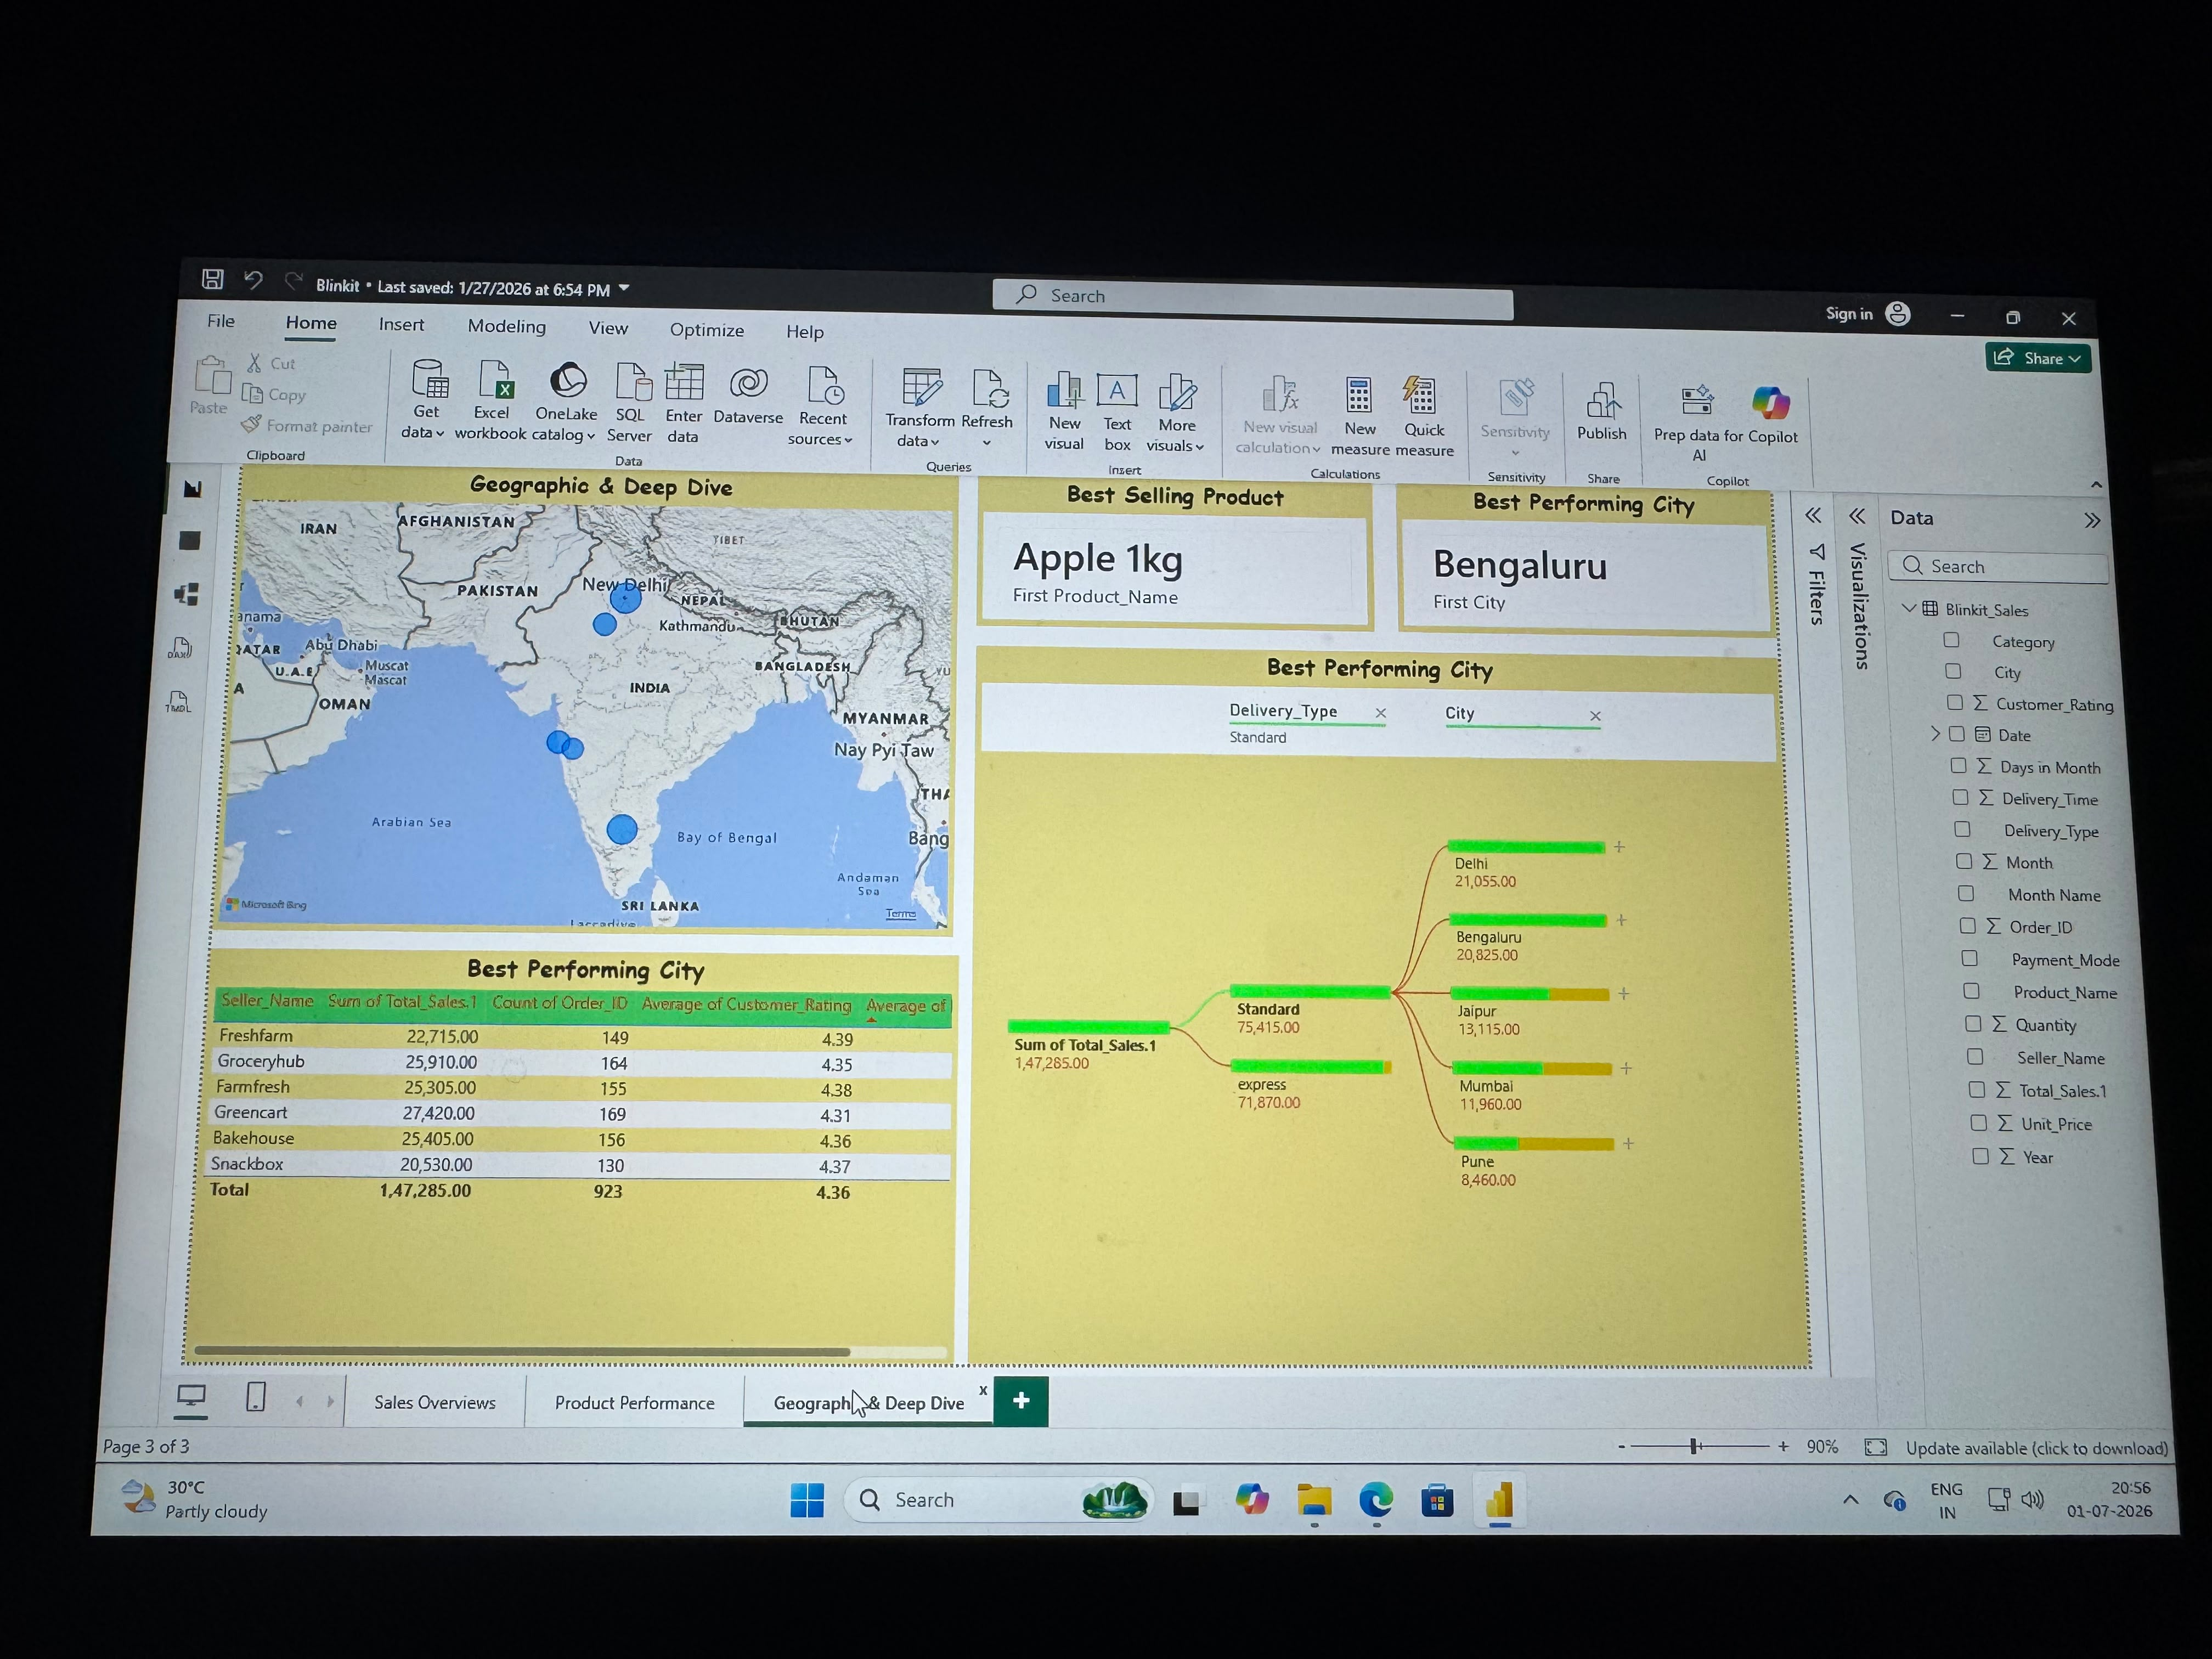

The dashboard page shown, as its layout file describes it:
{"tool":"powerbi","page":{"name":"Geographic & Deep Dive","canvas":[1280,720],"ordinal":2},"visuals":[{"type":"map","title":"Geographic & Deep Dive","fields":{"Category":["Blinkit_Sales.City"],"Size":["Sum(Blinkit_Sales.Total_Sales.1)"]},"box":[0,0,596.7,385],"z":0},{"type":"cardVisual","title":"Best Selling Product","fields":{"Data":["Min(Blinkit_Sales.Product_Name)"]},"box":[607.8,0,331.8,127.5],"z":1},{"type":"cardVisual","title":"Best Performing City","fields":{"Data":["Min(Blinkit_Sales.City)"]},"box":[959.4,0,320.6,127.5],"z":3},{"type":"decompositionTreeVisual","title":"Best Performing City","fields":{"Analyze":["Sum(Blinkit_Sales.Total_Sales.1)"],"ExplainBy":["Blinkit_Sales.Delivery_Type","Blinkit_Sales.City","Blinkit_Sales.Category","Blinkit_Sales.Product_Name"]},"box":[607.8,144.8,672.2,575.6],"z":4},{"type":"tableEx","title":"Best Performing City","fields":{"Values":["Blinkit_Sales.Seller_Name","Sum(Blinkit_Sales.Total_Sales.1)","CountNonNull(Blinkit_Sales.Order_ID)","Avg(Blinkit_Sales.Customer_Rating)","Avg(Blinkit_Sales.Delivery_Time)"]},"box":[0,399.8,596.7,320.6],"z":5}]}

Visuals, with their boxes on the page's 1280x720 design canvas (x1, y1, x2, y2). These are canvas units, not pixel positions in the 2212x1659 screenshot, which may show the page scaled, cropped or inside an application window:
"Geographic & Deep Dive" map: x1=0 y1=0 x2=597 y2=385
"Best Selling Product" cardVisual: x1=608 y1=0 x2=940 y2=128
"Best Performing City" cardVisual: x1=959 y1=0 x2=1280 y2=128
"Best Performing City" decompositionTreeVisual: x1=608 y1=145 x2=1280 y2=720
"Best Performing City" tableEx: x1=0 y1=400 x2=597 y2=720
